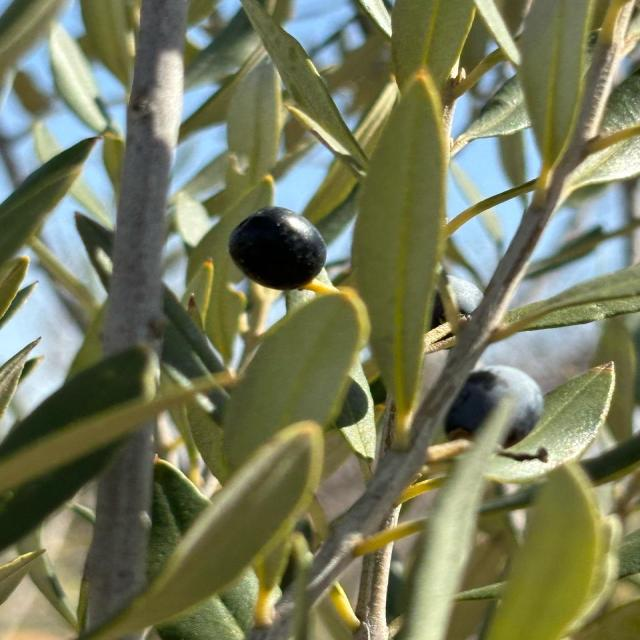Healthy: (228, 206, 326, 291), (444, 366, 544, 448)
